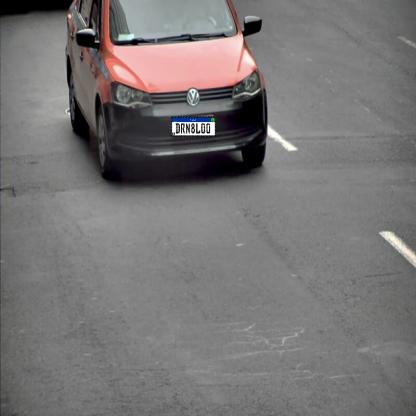PlacaM: (171, 116, 216, 136)
